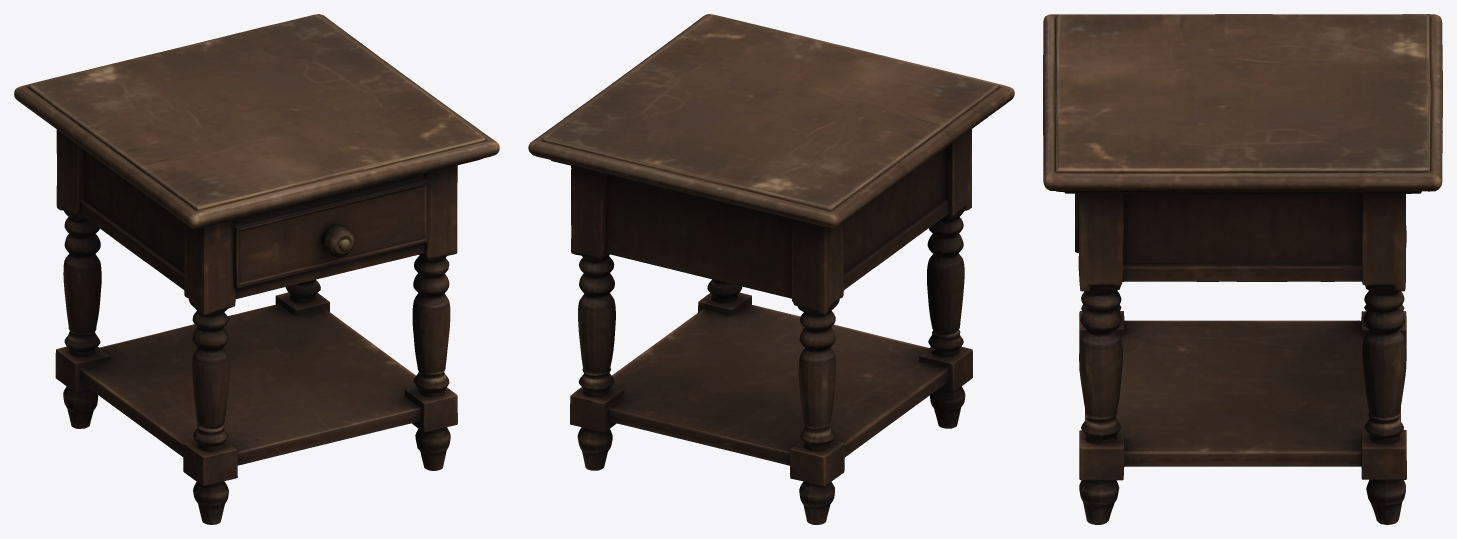
File: night_stand.glb
The picture shows the model from 3 angles, left to right: view 1: azimuth 30°, elevation 25°; view 2: azimuth 150°, elevation 25°; view 3: azimuth 270°, elevation 25°; orthographic projection. The views are drawn at different scales.
Visible parts, largest first — view 1: geometry_0; view 2: geometry_0; view 3: geometry_0.
Boxes of the visible parts, x1,y1,x2,y2 form: geometry_0: [14, 14, 499, 524]; geometry_0: [528, 14, 1014, 524]; geometry_0: [1043, 14, 1442, 524].
Bounding box in the file's own units: 0.9638 × 0.9956 × 0.9735.
Materials: 1 (1 with a texture image).
